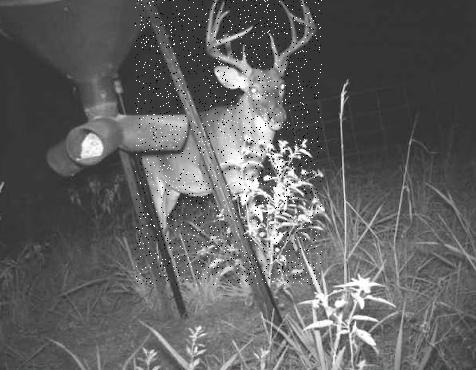Deer: (135, 0, 322, 285)
